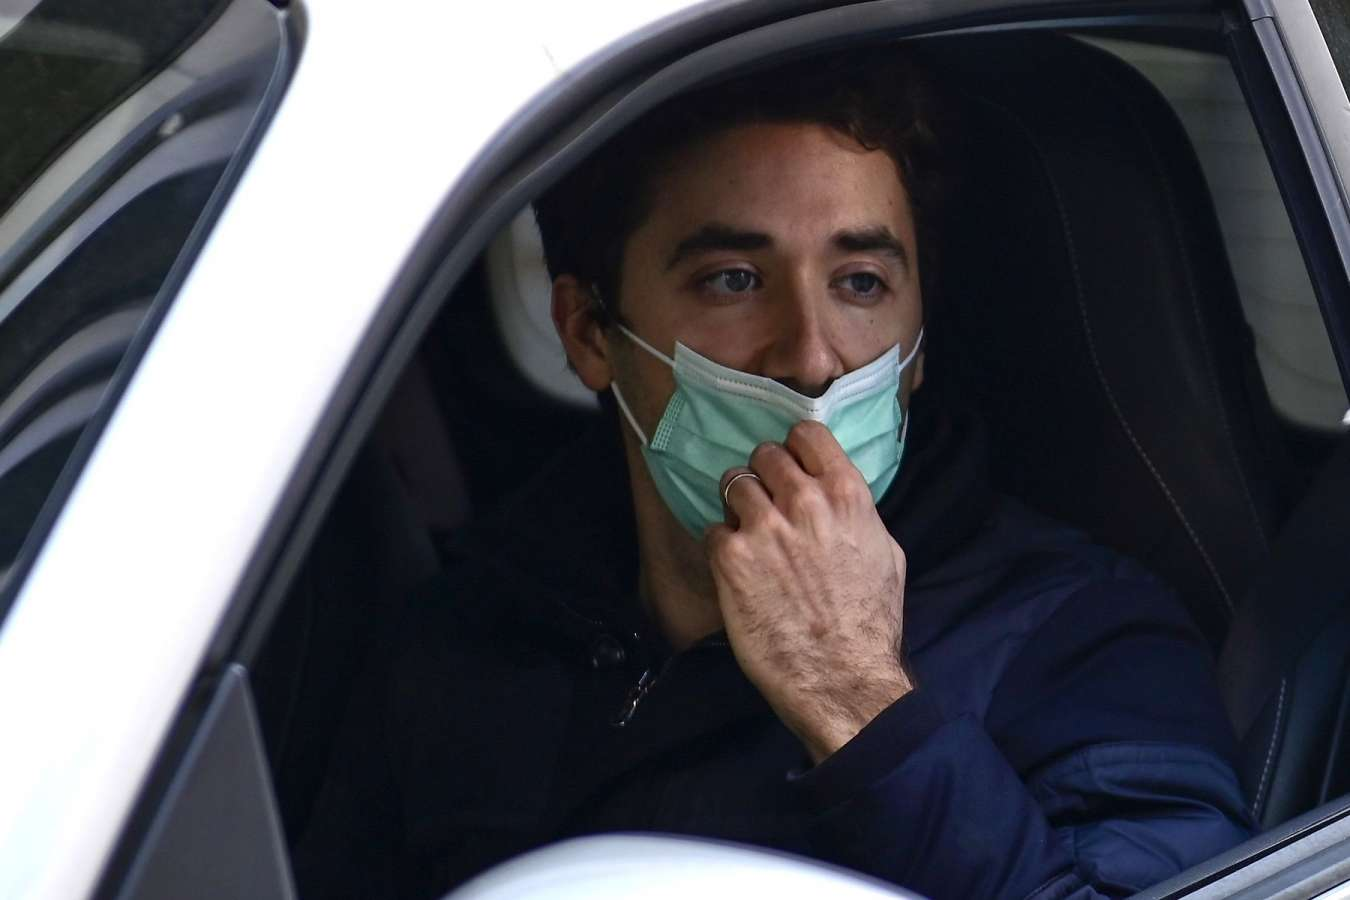with_incorrect_mask: (591, 194, 944, 484)
